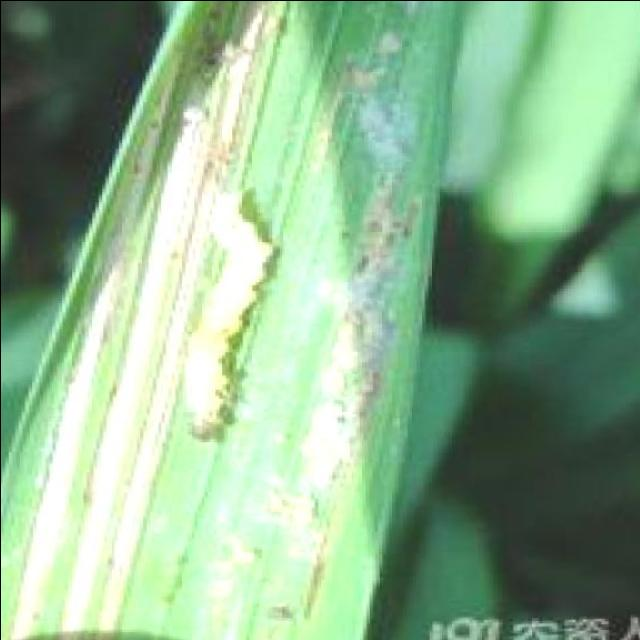leaf folder: (183, 189, 278, 439)
